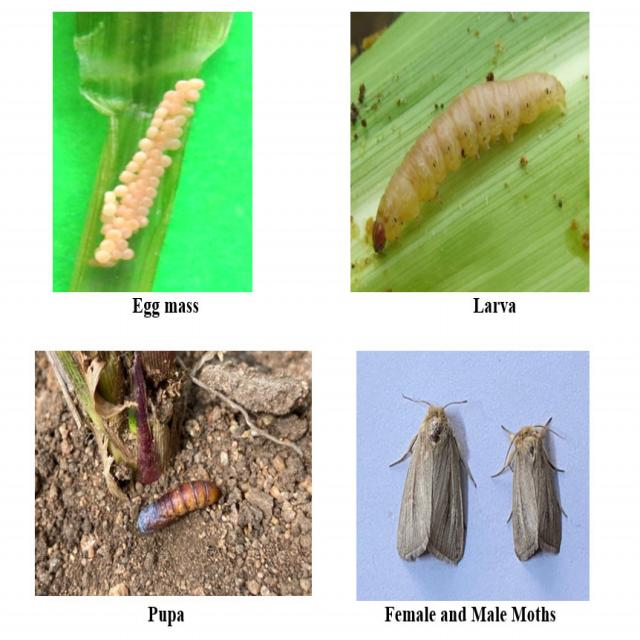cornborer-Adult-: (386, 379, 483, 573), (489, 407, 576, 563)
cornborer-Larva-: (366, 68, 578, 258)
